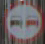No overtake: (4, 3, 44, 42)
